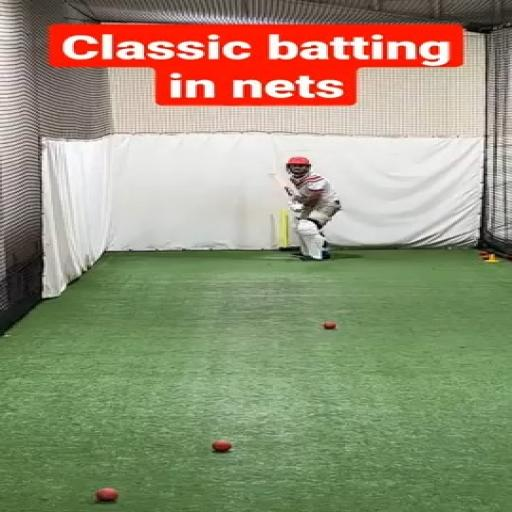Cricket bat: (269, 174, 290, 196)
